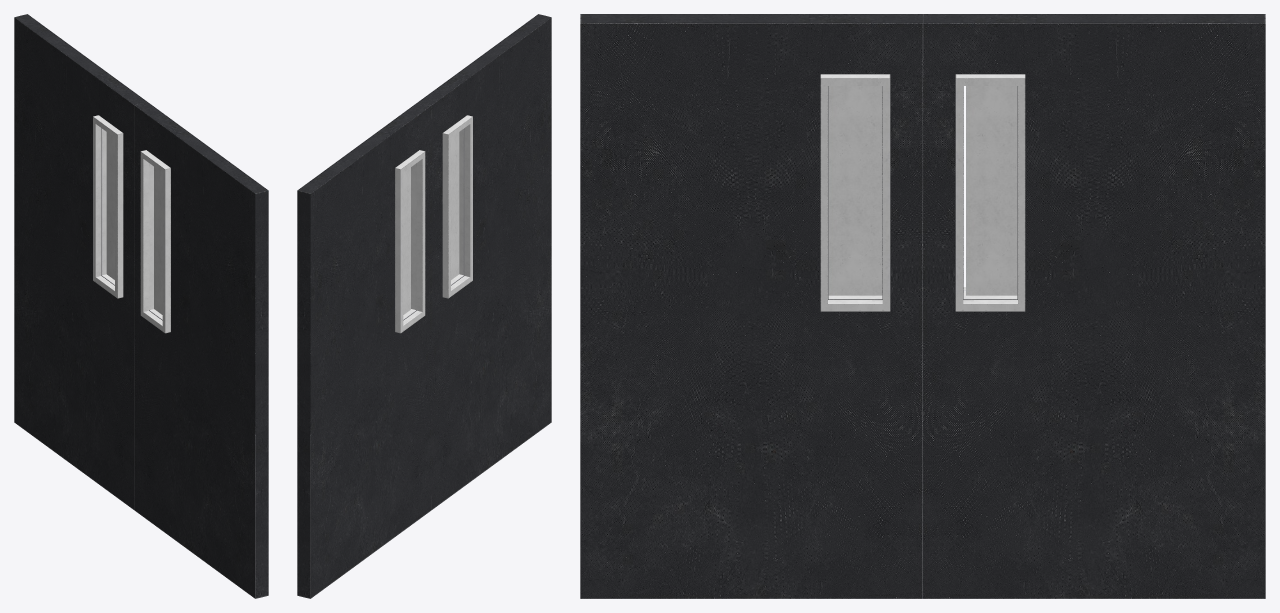
The model's file is Door.fbx.
3 views of the same model, side by side, from view 1: azimuth 30°, elevation 25°; view 2: azimuth 150°, elevation 25°; view 3: azimuth 270°, elevation 25° (orthographic). The views are drawn at different scales.
Parts seen in each view (by area): view 1: Cube_129__1_, Cube_129__2_, Cube_129__1_.001, Cube_129__1_.002; view 2: Cube_129__2_, Cube_129__1_, Cube_129__1_.001, Cube_129__1_.002; view 3: Cube_129__2_, Cube_129__1_, Cube_129__1_.001, Cube_129__1_.002.
Part boxes in pixels (x1,y1,x2,y2): Cube_129__1_: (134, 102, 268, 598); Cube_129__2_: (14, 14, 147, 509); Cube_129__1_.001: (154, 167, 162, 314); Cube_129__1_.002: (106, 132, 114, 279); Cube_129__2_: (297, 102, 430, 598); Cube_129__1_: (418, 14, 551, 510); Cube_129__1_.001: (451, 132, 459, 279); Cube_129__1_.002: (403, 167, 410, 314); Cube_129__2_: (922, 14, 1265, 598); Cube_129__1_: (580, 14, 923, 598); Cube_129__1_.001: (828, 86, 882, 295); Cube_129__1_.002: (966, 86, 1017, 295).
Bounding box in the file's own units: 15.87 × 248 × 268.
